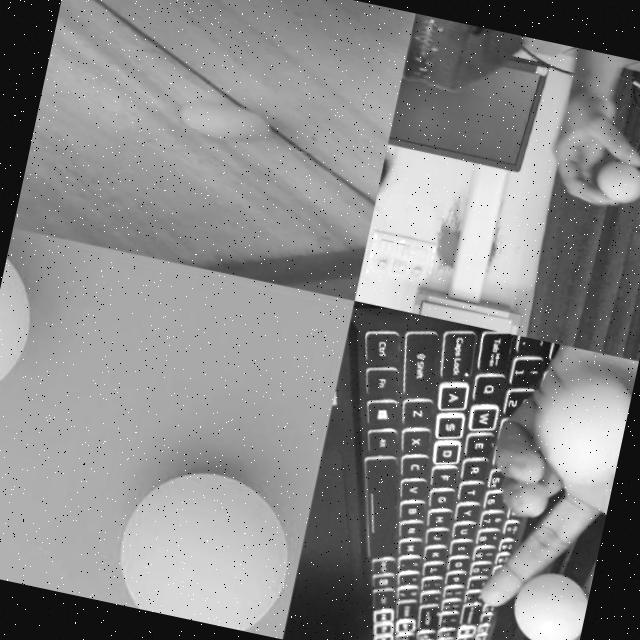ping-pong-ball: (110, 456, 303, 637), (525, 364, 634, 491), (0, 240, 47, 418), (505, 565, 591, 640), (178, 96, 272, 150), (593, 159, 640, 206)
